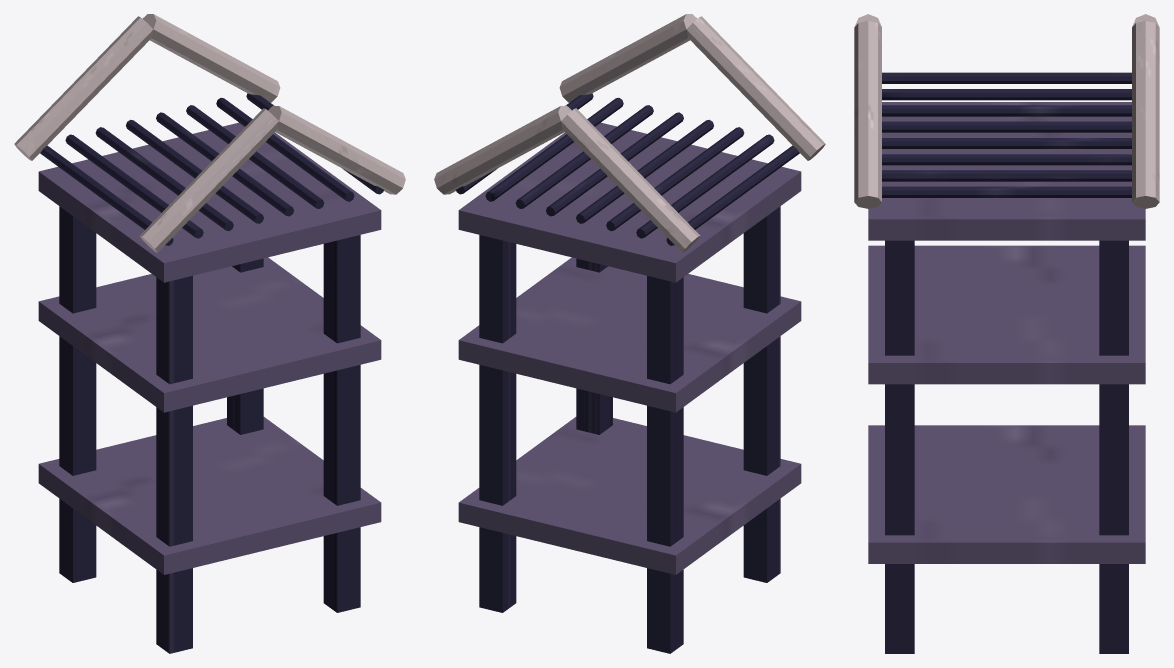
File: yokai_watchtower_lod0.glb
3 views of the same model, side by side, from view 1: azimuth 30°, elevation 25°; view 2: azimuth 150°, elevation 25°; view 3: azimuth 270°, elevation 25° (orthographic). The views are drawn at different scales.
Visible parts, largest first — view 1: ash_4, ash_5, ash_6, obsidian_3, obsidian_1, obsidian_0, bone_9, bone_7, bone_10, bone_8, obsidian_2, obsidian_15 (+6 smaller); view 2: ash_4, ash_5, ash_6, obsidian_2, obsidian_0, obsidian_1, bone_7, bone_9, bone_8, bone_10, obsidian_3, obsidian_15 (+6 smaller); view 3: ash_5, ash_4, ash_6, obsidian_2, obsidian_3, bone_8, bone_10, obsidian_11, obsidian_12, obsidian_13, obsidian_14, obsidian_16 (+3 smaller).
Part boxes in pixels (x1,y1,x2,y2): ash_4: (38, 417, 381, 574); ash_5: (38, 257, 381, 412); ash_6: (38, 122, 381, 282); obsidian_3: (323, 235, 360, 612); obsidian_1: (156, 276, 192, 653); obsidian_0: (59, 206, 96, 582); bone_9: (139, 108, 278, 252); bone_7: (14, 16, 153, 160); bone_10: (268, 105, 405, 194); bone_8: (142, 14, 280, 102); obsidian_2: (227, 258, 263, 434); obsidian_15: (156, 112, 293, 216); ash_4: (458, 417, 801, 574); ash_5: (458, 257, 801, 412); ash_6: (458, 122, 801, 282); obsidian_2: (479, 235, 516, 612); obsidian_0: (647, 276, 683, 653); obsidian_1: (743, 206, 780, 582); bone_7: (561, 108, 700, 252); bone_9: (686, 16, 825, 160); bone_8: (434, 105, 571, 194); bone_10: (559, 14, 697, 102); obsidian_3: (576, 258, 612, 434); obsidian_15: (546, 112, 683, 216); ash_5: (868, 245, 1145, 384); ash_4: (868, 425, 1145, 563); ash_6: (868, 102, 1145, 240); obsidian_2: (1099, 240, 1128, 653); obsidian_3: (885, 240, 914, 653); bone_8: (1132, 21, 1159, 208); bone_10: (854, 21, 881, 208); obsidian_11: (882, 72, 1131, 83); obsidian_12: (882, 89, 1131, 100); obsidian_13: (882, 105, 1131, 116); obsidian_14: (882, 121, 1131, 132); obsidian_16: (882, 154, 1131, 165).
Bounding box in the file's own units: 8.42 × 16.28 × 7.7.
Materials: 3 (3 with a texture image).
